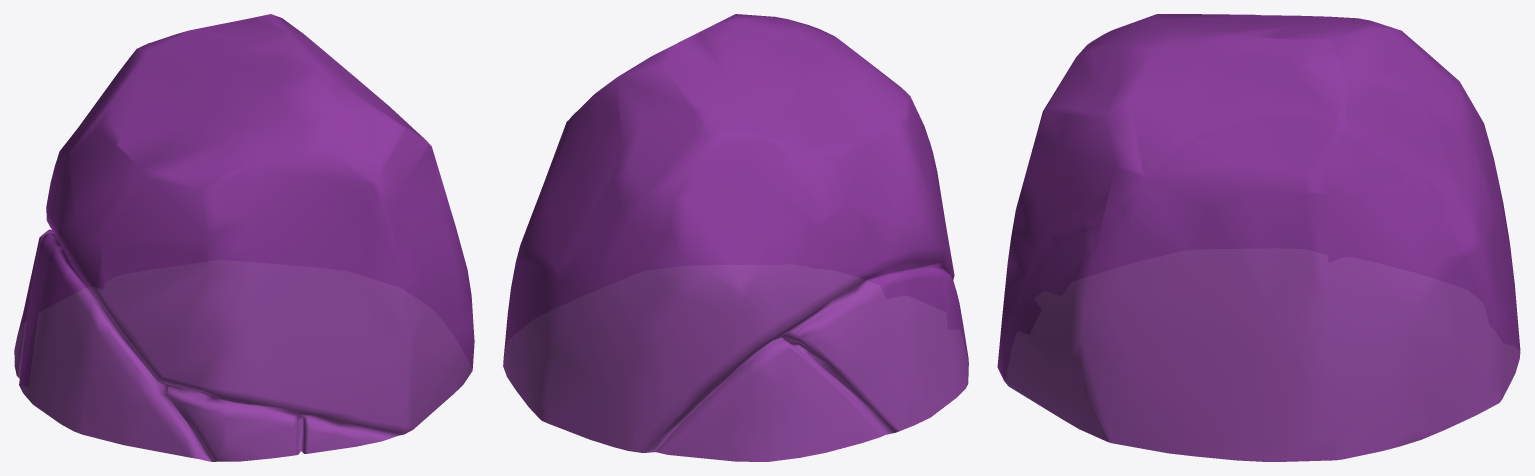
Rendered from SM_Stone_01_low.fbx.
The picture shows the model from 3 angles, left to right: view 1: azimuth 30°, elevation 25°; view 2: azimuth 150°, elevation 25°; view 3: azimuth 270°, elevation 25°; orthographic projection. The views are drawn at different scales.
Parts seen in each view (by area): view 1: SM_Stone_01_low; view 2: SM_Stone_01_low; view 3: SM_Stone_01_low.
Boxes of the visible parts, x1,y1,x2,y2 form: SM_Stone_01_low: [14, 14, 474, 461]; SM_Stone_01_low: [503, 14, 968, 461]; SM_Stone_01_low: [997, 14, 1520, 461].
Size of the model in its own units: 1070 by 1105 by 816.
